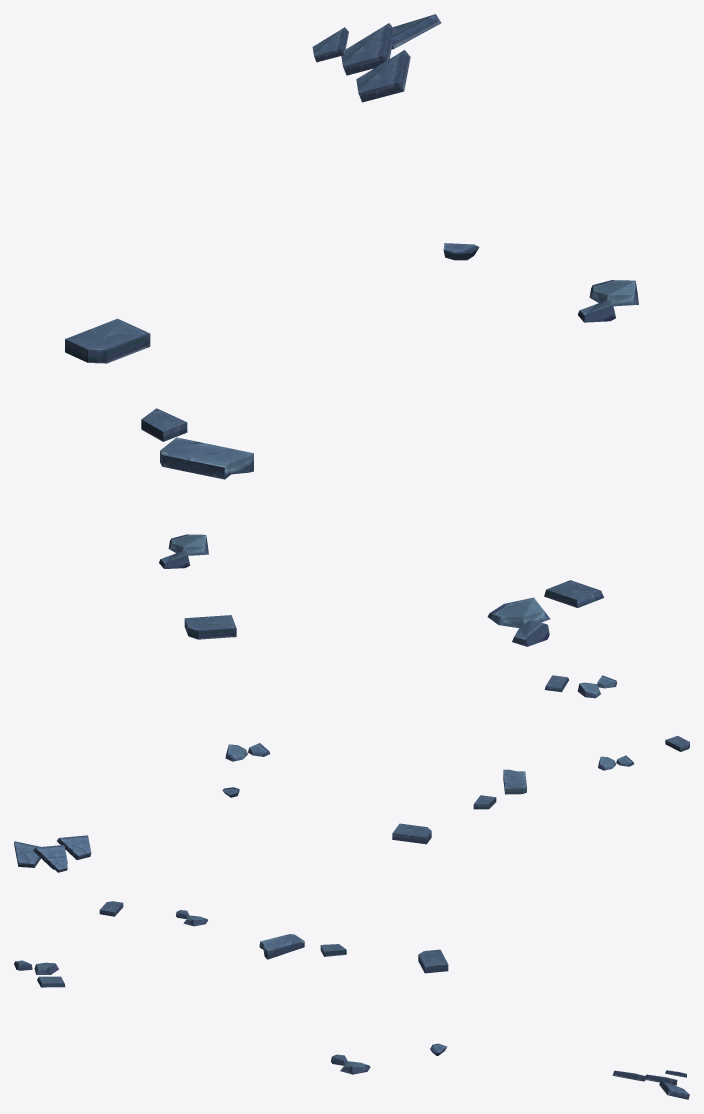
The model's file is Area12_33.fbx.
The picture shows the model from 3 angles, top to bottom: view 1: azimuth 30°, elevation 25°; view 2: azimuth 150°, elevation 25°; view 3: azimuth 270°, elevation 25°; orthographic projection. The views are drawn at different scales.
Visible parts, largest first — view 1: Area12_33; view 2: Area12_33; view 3: Area12_33.
Boxes of the visible parts, bbox=[...] form: Area12_33: bbox=[65, 14, 638, 646]; Area12_33: bbox=[14, 675, 689, 872]; Area12_33: bbox=[14, 901, 689, 1099].
Bounding box in the file's own units: 2580 × 99.2 × 3724.
Materials: 1 (1 with a texture image).
